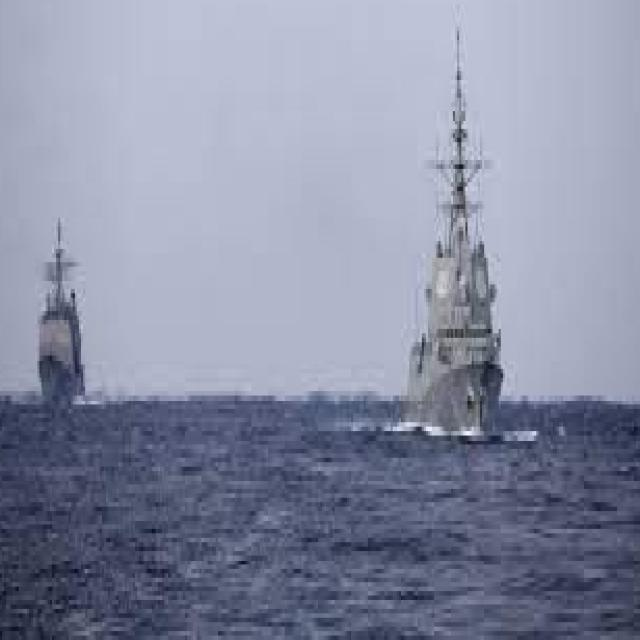navalvessels: (394, 34, 514, 430), (29, 223, 89, 393)
